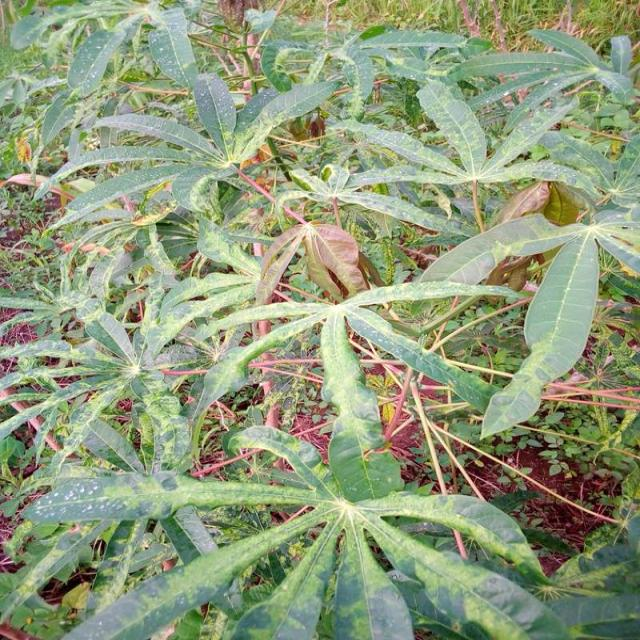cassava leaf: (2, 6, 638, 638), (479, 228, 601, 441)
